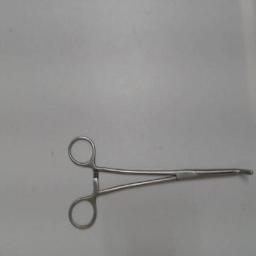Lahey Forceps: (66, 132, 254, 232)
